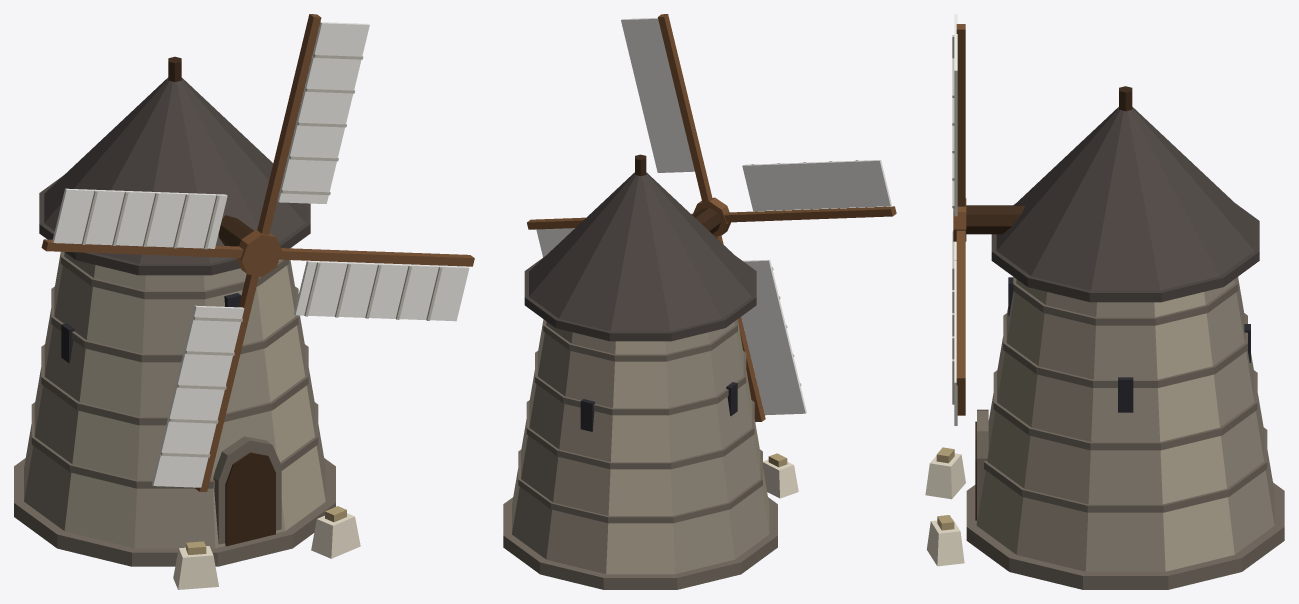
The model's file is windmill-2x2-t2.glb.
3 views of the same model, side by side, from view 1: azimuth 30°, elevation 25°; view 2: azimuth 150°, elevation 25°; view 3: azimuth 270°, elevation 25° (orthographic). The views are drawn at different scales.
Visible parts, largest first — view 1: windmill-2x2-t2; view 2: windmill-2x2-t2; view 3: windmill-2x2-t2.
Boxes of the visible parts, x1,y1,x2,y2 form: windmill-2x2-t2: (14, 14, 474, 589); windmill-2x2-t2: (503, 14, 896, 589); windmill-2x2-t2: (925, 14, 1284, 589).
Size of the model in its own units: 1.9 by 2.25 by 1.4.
Materials: 1 (1 with a texture image).
